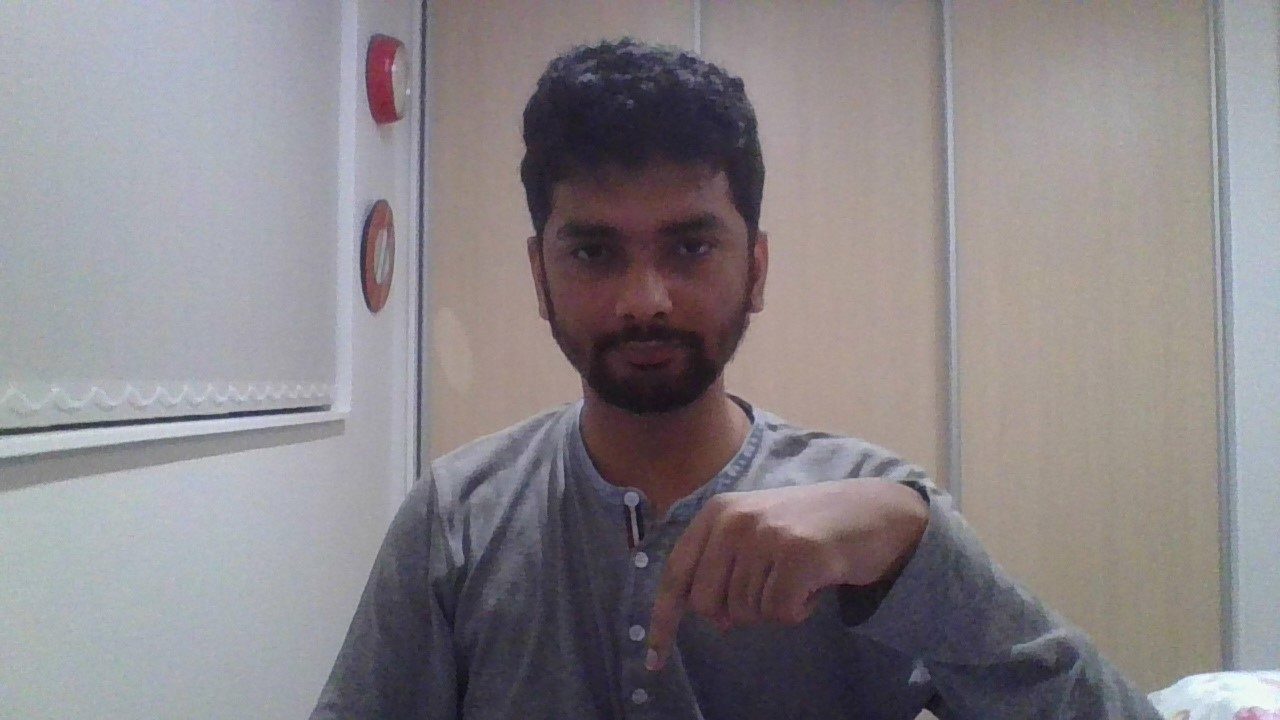below: (645, 477, 928, 673)
